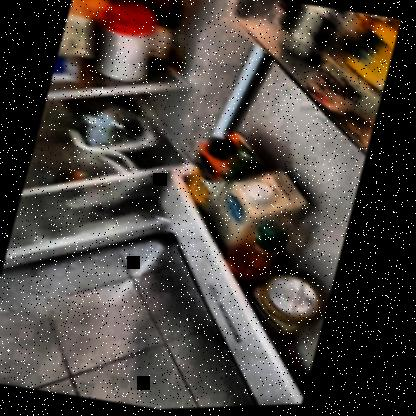broccoli: (58, 96, 156, 158)
milk: (222, 163, 299, 243)
